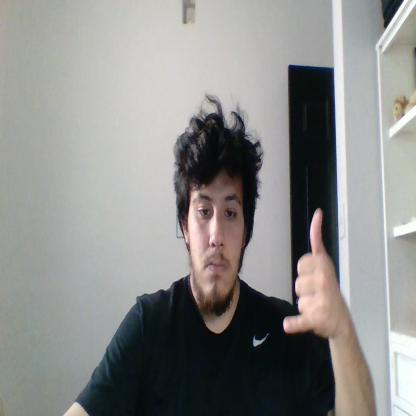Y: (283, 209, 340, 336)
